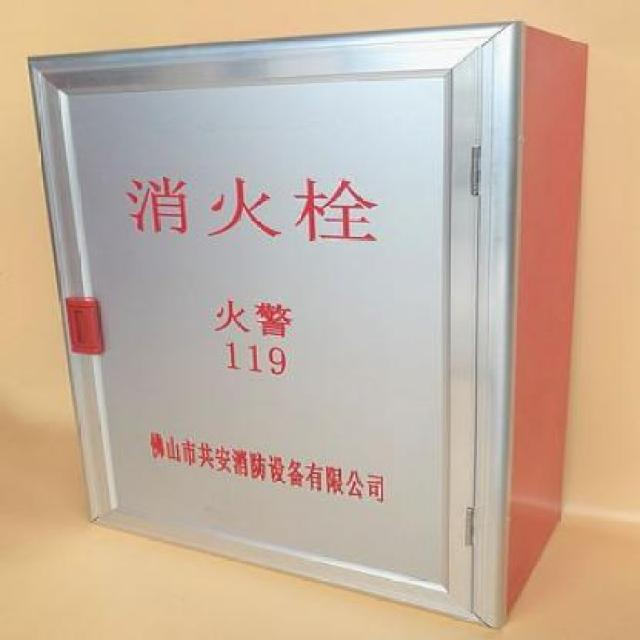firehydrant: (22, 14, 594, 634)
